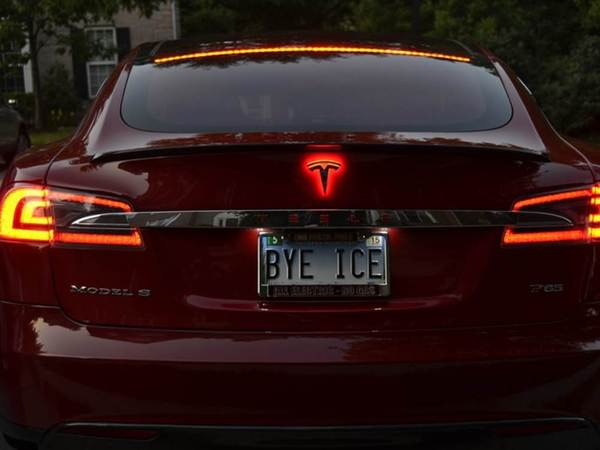license plate: (253, 228, 392, 299)
